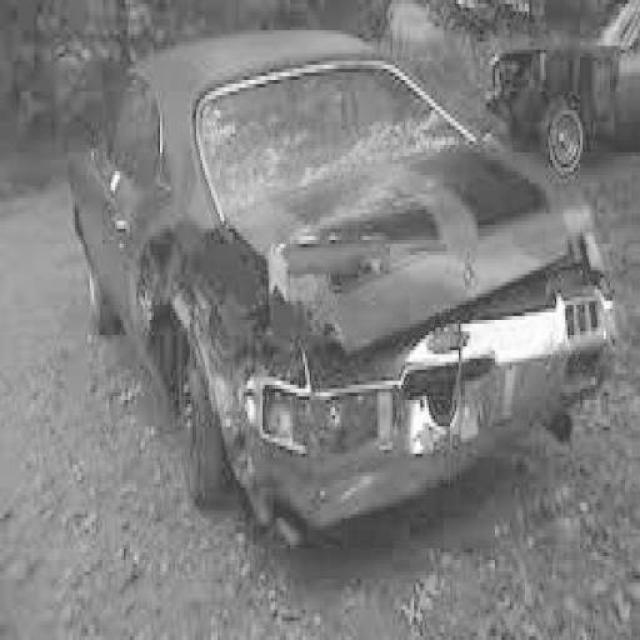car damage: (134, 219, 614, 547)
